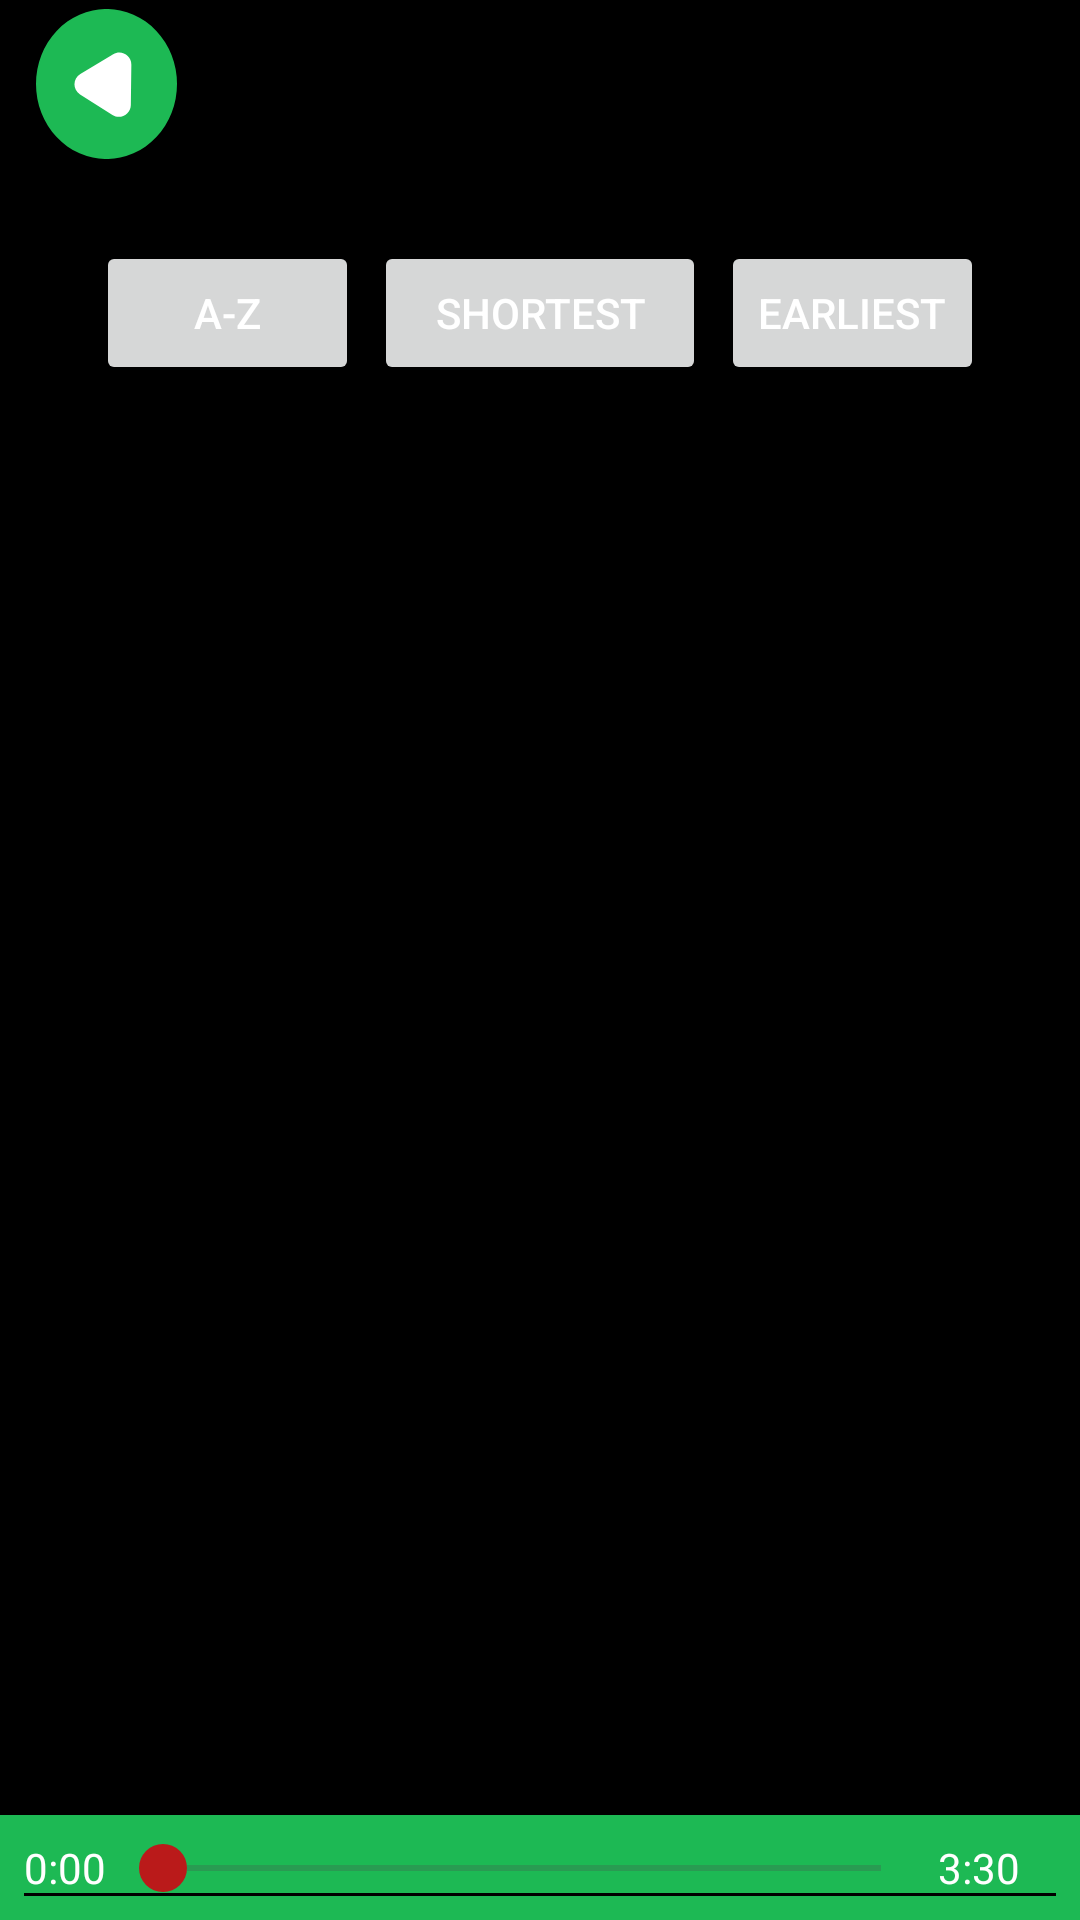

Named icons in this screenshot (1080x1920) and their centers, [x,y]:
Back: [106,84]
